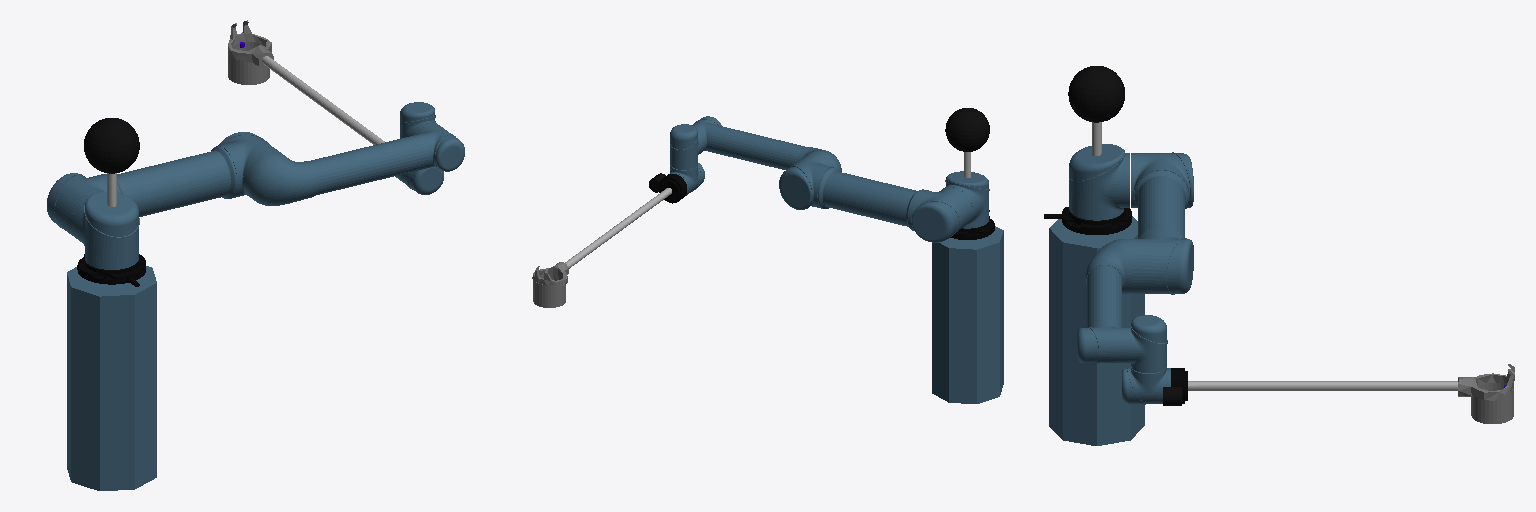
The robot description file, URDF, robot "ur5":
<?xml version="1.0" ?>
<!-- =================================================================================== -->
<!-- |    This document was autogenerated by xacro from UR5_gripper2.xacro             | -->
<!-- |    EDITING THIS FILE BY HAND IS NOT RECOMMENDED                                 | -->
<!-- =================================================================================== -->
<robot name="ur5">

  <!-- ===================================================================  -->
  <!--                       UR5 ROBOT DESCRIPTION                          -->
  <!-- ===================================================================  -->
  <link name="stand">
    <visual>
      <origin rpy="0 0 0" xyz="0. 0.0 0.0"/>
      <geometry>
        <mesh filename="package://ur5controller/arm/meshes/visual/arm_stand.obj"/>
      </geometry>
      <material name="blau">
        <color rgba="0.3 0.43 0.512 1.0"/>
      </material>
    </visual>
    <collision>
      <geometry>
        <mesh filename="package://ur5controller/arm/meshes/visual/arm_stand.obj"/>
      </geometry>
    </collision>
    <inertial>
      <mass value="4.0"/>
      <origin rpy="0 0 0" xyz="0.0 0.0 0.0"/>
      <inertia ixx="0.00443333156" ixy="0.0" ixz="0.0" iyy="0.00443333156" iyz="0.0" izz="0.0072"/>
    </inertial>
  </link>

  <joint name="stand_joints" type="fixed">
    <parent link="stand"/>
    <child link="base_link"/>
    <origin rpy="0.0 0.0 0.0" xyz="0.0 0.0 0.5"/>
    <axis xyz="0 0 1"/>
    <limit effort="2250.0" lower="-6.26573" upper="6.26573" velocity="3.15"/>
    <dynamics damping="0.1" friction="10.0"/>
  </joint>


  <link name="base_link">
    <visual>
      <geometry>
        <mesh filename="package://ur5controller/arm/meshes/visual/base.obj"/>
      </geometry>
      <material name="Scheibe">
        <color rgba="0.07 0.07 0.07 1.0"/>
      </material>
    </visual>
    <collision>
      <geometry>
        <mesh filename="package://ur5controller/arm/meshes/collision/base.stl"/>
      </geometry>
    </collision>
    <inertial>
      <mass value="4.0"/>
      <origin rpy="0 0 0" xyz="0.0 0.0 0.0"/>
      <inertia ixx="0.00443333156" ixy="0.0" ixz="0.0" iyy="0.00443333156" iyz="0.0" izz="0.0072"/>
    </inertial>
  </link>


  <joint name="shoulder_pan_joint" type="revolute">
    <parent link="base_link"/>
    <child link="shoulder_link"/>
    <origin rpy="0.0 0.0 0.0" xyz="0.0 0.0 0.089159"/>
    <axis xyz="0 0 1"/>
    <limit effort="2250.0" lower="-6.26573" upper="6.26573" velocity="3.15"/>
    <dynamics damping="0.1" friction="10.0"/>
  </joint>


  <link name="shoulder_link">
    <visual>
      <geometry>
        <mesh filename="package://ur5controller/arm/meshes/visual/shoulder.obj"/>
      </geometry>
      <material name="blau">
        <color rgba="0.3 0.43 0.512 1.0"/>
      </material>
    </visual>
    <collision>
      <geometry>
        <mesh filename="package://ur5controller/arm/meshes/collision/shoulder.stl"/>
      </geometry>
    </collision>
    <inertial>
      <mass value="3.7"/>
      <origin rpy="0 0 0" xyz="0.0 0.0 0.0"/>
      <inertia ixx="0.010267495893" ixy="0.0" ixz="0.0" iyy="0.010267495893" iyz="0.0" izz="0.00666"/>
    </inertial>
  </link>


  <joint name="shoulder_lift_joint" type="revolute">
    <parent link="shoulder_link"/>
    <child link="upper_arm_link"/>
    <origin rpy="0.0 1.570796325 0.0" xyz="0.0 0.13585 0.0"/>
    <axis xyz="0 1 0"/>
    <limit effort="2250.0" lower="-6.26573" upper="6.26573" velocity="3.15"/>
    <dynamics damping="0.1" friction="10.0"/>
  </joint>


  <link name="upper_arm_link">
    <visual>
      <geometry>
        <mesh filename="package://ur5controller/arm/meshes/visual/upperarm.obj"/>
      </geometry>
      <material name="blau">
        <color rgba="0.3 0.43 0.512 1.0"/>
      </material>
    </visual>
    <collision>
      <geometry>
        <mesh filename="package://ur5controller/arm/meshes/collision/upperarm.stl"/>
      </geometry>
    </collision>
    <inertial>
      <mass value="8.393"/>
      <origin rpy="0 0 0" xyz="0.0 0.0 0.28"/>
      <inertia ixx="0.22689067591" ixy="0.0" ixz="0.0" iyy="0.22689067591" iyz="0.0" izz="0.0151074"/>
    </inertial>
  </link>


  <joint name="elbow_joint" type="revolute">
    <parent link="upper_arm_link"/>
    <child link="forearm_link"/>
    <origin rpy="0.0 0.0 0.0" xyz="0.0 -0.1197 0.425"/>
    <axis xyz="0 1 0"/>
    <!-- FIXME these efforts are multiplie by 20 for fast training. Should just switch to fast robot -->
    <limit effort="2250.0" lower="-6.26573" upper="6.26573" velocity="3.15"/>
    <dynamics damping="0.1" friction="10.0"/>
  </joint>


  <link name="forearm_link">
    <visual>
      <geometry>
        <mesh filename="package://ur5controller/arm/meshes/visual/forearm.obj"/>
      </geometry>
      <material name="blau">
        <color rgba="0.3 0.43 0.512 1.0"/>
      </material>
    </visual>
    <collision>
      <geometry>
        <mesh filename="package://ur5controller/arm/meshes/collision/forearm.stl"/>
      </geometry>
    </collision>
    <inertial>
      <mass value="2.275"/>
      <origin rpy="0 0 0" xyz="0.0 0.0 0.25"/>
      <inertia ixx="0.049443313556" ixy="0.0" ixz="0.0" iyy="0.049443313556" iyz="0.0" izz="0.004095"/>
    </inertial>
  </link>


  <joint name="wrist_1_joint" type="revolute">
    <parent link="forearm_link"/>
    <child link="wrist_1_link"/>
    <origin rpy="0.0 1.570796325 0.0" xyz="0.0 0.0 0.39225"/>
    <axis xyz="0 1 0"/>
    <limit effort="420.0" lower="-6.26573" upper="6.26573" velocity="3.2"/>
    <dynamics damping="0.1" friction="10.0"/>
  </joint>


  <link name="wrist_1_link">
    <visual>
      <geometry>
        <mesh filename="package://ur5controller/arm/meshes/visual/wrist1.obj"/>
      </geometry>
      <material name="blau">
        <color rgba="0.3 0.43 0.512 1.0"/>
      </material>
    </visual>
    <collision>
      <geometry>
        <mesh filename="package://ur5controller/arm/meshes/collision/wrist1.stl"/>
      </geometry>
    </collision>
    <inertial>
      <mass value="1.219"/>
      <origin rpy="0 0 0" xyz="0.0 0.0 0.0"/>
      <inertia ixx="0.111172755531" ixy="0.0" ixz="0.0" iyy="0.111172755531" iyz="0.0" izz="0.21942"/>
    </inertial>
  </link>


  <joint name="wrist_2_joint" type="revolute">
    <parent link="wrist_1_link"/>
    <child link="wrist_2_link"/>
    <origin rpy="0.0 0.0 0.0" xyz="0.0 0.093 0.0"/>
    <axis xyz="0 0 1"/>
    <limit effort="420.0" lower="-6.26573" upper="6.26573" velocity="3.2"/>
    <dynamics damping="0.1" friction="10.0"/>
  </joint>


  <link name="wrist_2_link">
    <visual>
      <geometry>
        <mesh filename="package://ur5controller/arm/meshes/visual/wrist2.obj"/>
      </geometry>
      <material name="blau">
        <color rgba="0.3 0.43 0.512 1.0"/>
      </material>
    </visual>
    <collision>
      <geometry>
        <mesh filename="package://ur5controller/arm/meshes/collision/wrist2.stl"/>
      </geometry>
    </collision>
    <inertial>
      <mass value="1.219"/>
      <origin rpy="0 0 0" xyz="0.0 0.0 0.0"/>
      <inertia ixx="0.111172755531" ixy="0.0" ixz="0.0" iyy="0.111172755531" iyz="0.0" izz="0.21942"/>
    </inertial>
  </link>


  <joint name="wrist_3_joint" type="revolute">
    <parent link="wrist_2_link"/>
    <child link="wrist_3_link"/>
    <origin rpy="0.0 0.0 0.0" xyz="0.0 0.0 0.09465"/>
    <axis xyz="0 1 0"/>
    <limit effort="420.0" lower="-6.26573" upper="6.26573" velocity="3.2"/>
    <dynamics damping="0.1" friction="10.0"/>
  </joint>


  <link name="wrist_3_link">
    <visual>
      <geometry>
        <mesh filename="package://ur5controller/arm/meshes/visual/wrist3.obj"/>
      </geometry>
      <material name="Scheibe">
        <color rgba="0.07 0.07 0.07 1.0"/>
      </material>
    </visual>
    <collision>
      <geometry>
        <mesh filename="package://ur5controller/arm/meshes/collision/wrist3.stl"/>
      </geometry>
    </collision>
    <inertial>
      <mass value="0.1879"/>
      <origin rpy="0 0 0" xyz="0.0 0.0 0.0"/>
      <inertia ixx="0.0171364731454" ixy="0.0" ixz="0.0" iyy="0.0171364731454" iyz="0.0" izz="0.033822"/>
    </inertial>
  </link>


  <joint name="ee_fixed_joint" type="fixed">
    <parent link="wrist_3_link"/>
    <child link="ee_link0"/>
    <origin rpy="0.0 0.0 1.570796325" xyz="0.0 0.08 0.0"/>
  </joint>


  <link name="ee_link0">
    <inertial>
      <mass value="0.018"/>
      <inertia ixx="8.82e-6" ixy="0" ixz="0" iyy="8.82e-6" iyz="0" izz="8.82e-6" />
    </inertial>
    <collision>
      <geometry>
        <box size="0.01 0.01 0.01"/>
      </geometry>
      <origin rpy="0 0 0" xyz="-0.01 0 0"/>
    </collision>
  </link>


  <transmission name="shoulder_pan_trans">
    <type>transmission_interface/SimpleTransmission</type>
    <joint name="shoulder_pan_joint">
      <hardwareInterface>PositionJointInterface</hardwareInterface>
    </joint>
    <actuator name="shoulder_pan_motor">
      <mechanicalReduction>1</mechanicalReduction>
    </actuator>
  </transmission>


  <transmission name="shoulder_lift_trans">
    <type>transmission_interface/SimpleTransmission</type>
    <joint name="shoulder_lift_joint">
      <hardwareInterface>PositionJointInterface</hardwareInterface>
    </joint>
    <actuator name="shoulder_lift_motor">
      <mechanicalReduction>1</mechanicalReduction>
    </actuator>
  </transmission>


  <transmission name="elbow_trans">
    <type>transmission_interface/SimpleTransmission</type>
    <joint name="elbow_joint">
      <hardwareInterface>PositionJointInterface</hardwareInterface>
    </joint>
    <actuator name="elbow_motor">
      <mechanicalReduction>1</mechanicalReduction>
    </actuator>
  </transmission>


  <transmission name="wrist_1_trans">
    <type>transmission_interface/SimpleTransmission</type>
    <joint name="wrist_1_joint">
      <hardwareInterface>PositionJointInterface</hardwareInterface>
    </joint>
    <actuator name="wrist_1_motor">
      <mechanicalReduction>1</mechanicalReduction>
    </actuator>
  </transmission>


  <transmission name="wrist_2_trans">
    <type>transmission_interface/SimpleTransmission</type>
    <joint name="wrist_2_joint">
      <hardwareInterface>PositionJointInterface</hardwareInterface>
    </joint>
    <actuator name="wrist_2_motor">
      <mechanicalReduction>1</mechanicalReduction>
    </actuator>
  </transmission>


  <transmission name="wrist_3_trans">
    <type>transmission_interface/SimpleTransmission</type>
    <joint name="wrist_3_joint">
      <hardwareInterface>PositionJointInterface</hardwareInterface>
    </joint>
    <actuator name="wrist_3_motor">
      <mechanicalReduction>1</mechanicalReduction>
    </actuator>
  </transmission>

  <!-- nothing to do here at the moment -->
  <!-- ROS base_link to UR 'Base' Coordinates transform -->
  <link name="base"/>
  <joint name="base_link-base_fixed_joint" type="fixed">
    <!-- NOTE: this rotation is only needed as long as base_link itself is
                 not corrected wrt the real robot (ie: rotated over 180
                 degrees)
      -->
    <origin rpy="0 0 -3.14159265" xyz="0 0 0"/>
    <parent link="base_link"/>
    <child link="base"/>
  </joint>

  <!-- Frame coincident with all-zeros TCP on UR controller -->
  <link name="tool0"/>
  <joint name="wrist_3_link-tool0_fixed_joint" type="fixed">
    <origin rpy="-1.570796325 0 0" xyz="0 0.0823 0"/>
    <parent link="wrist_3_link"/>
    <child link="tool0"/>
  </joint>


  <!-- ===================================================================  -->
  <!--                     CUSTOM PICKER                                    -->
  <!-- ===================================================================  -->

  <joint name="Gripper_Adapter_Fix" type="fixed">
    <parent link="ee_link0"/>
    <child link="simple_picker_pole"/>
    <origin rpy="0.0 0 0.0" xyz="0.0 0.0 0.0"/>
  </joint>


  <link name="simple_picker_pole">
    <visual>
      <origin rpy="0 1.571 0" xyz="0.3 0.0 0.0"/>
      <geometry name="pole">
        <cylinder length="0.6" radius="0.01"/>
      </geometry>
      <material name="LightGrey">
        <color rgba="0.7 0.7 0.7 1.0"/>
      </material>
    </visual>
    <collision>
      <origin rpy="0 1.571 0" xyz="0.3 0.0 0.0"/>
      <geometry name="pole">
        <cylinder length="0.6" radius="0.01"/>
      </geometry>
    </collision>
    <inertial>
      <mass value="0.1879"/>
      <inertia ixx="0.0171364731454" ixy="0.0" ixz="0.0" iyy="0.0171364731454" iyz="0.0" izz="0.033822"/>
    </inertial>
  </link>

  <joint name="joint_simple_picker_pole" type="fixed">
    <parent link="simple_picker_pole"/>
    <child link="simple_picker_tool"/>
    <origin rpy="0 3.1416 0" xyz="0.6 0.0 0.0"/>
  </joint>

  <link name="simple_picker_tool">
    <visual>
      <geometry>
        <mesh filename="package://picker/picker2.dae" scale=".33 .33 .33"/>
      </geometry>
      <material name="Grey">
        <color rgba="0.5 0.5 0.5 1.0"/>
      </material>
    </visual>
    <collision concave="yes">
      <!-- <origin rpy="0 0 0" xyz="0 0 0.015"/> -->
      <geometry>      
        <!-- <mesh filename="package://picker/picker_collision.dae" scale=".25 .25 .25"/> -->
        <mesh filename="package://picker/picker2.dae" scale=".33 .33 .33"/>
      </geometry>
    </collision>
    <inertial>
      <mass value="0.1879"/>
      <!-- <origin rpy="0 0 0" xyz="0.0 0.0 0.0"/> -->
      <inertia ixx="0.0171364731454" ixy="0.0" ixz="0.0" iyy="0.0171364731454" iyz="0.0" izz="0.033822"/>
    </inertial>
  </link>

  <joint name="ee_joint" type="fixed">
    <parent link="simple_picker_tool"/>
    <child link="ee_link"/>
    <origin rpy="0.0 0 0" xyz="-0.07 0 0"/>
  </joint>
  <link name="ee_link">
    <!-- This is in the center of the hoop -->
      <inertial>
          <mass value="0.018"/>
          <inertia ixx="8.82e-6" ixy="0" ixz="0" iyy="8.82e-6" iyz="0" izz="8.82e-6" />
      </inertial>
      <!-- DEBUG VISUAL -->
      <visual>
        <origin rpy="0 0 0" xyz="0.0 0.0 -0.005"/>
        <geometry>
          <cylinder length="0.01" radius="0.005"/>
        </geometry>
        <material name="blue">
          <color rgba="0.3 0.0 0.9 1.0"/>
        </material>
      </visual>
  </link>

<joint name="arm_camera_joint" type="fixed">
    <parent link="ee_link0"/>
    <child link="arm_camera_link"/>
    <!-- attach camera here, points at picker -->
    <origin rpy="0 -1.57 0" xyz="-0.02 0.05 0"/>
  </joint>
  <link name="arm_camera_link">
    <!-- This visual of camera -->
      <inertial>
          <mass value="0.018"/>
          <inertia ixx="8.82e-6" ixy="0" ixz="0" iyy="8.82e-6" iyz="0" izz="8.82e-6" />
      </inertial>
      <!-- DEBUG VISUAL -->
      <visual>
        <origin rpy="0 0 0" xyz="0.00 0.0 0.01"/>
        <geometry>
          <cylinder length="0.04" radius="0.02"/>
        </geometry>
        <material name="black">
          <color rgba="0.1 0.1 0.1 1.0"/>
        </material>
      </visual>
  </link>




  <joint name="base_camera_stalk_joint" type="fixed">
    <parent link="base_link"/>
    <!-- or base of stand ? -->
    <child link="base_camera_stalk"/>
    <!-- attach camera here, points at picker -->
    <origin rpy="0 3.14 0" xyz="0.00 0.00 0.2"/>
  </joint>
  <link name="base_camera_stalk">
    <!-- This visual of camera -->
      <inertial>
          <mass value="0.018"/>
          <inertia ixx="8.82e-6" ixy="0" ixz="0" iyy="8.82e-6" iyz="0" izz="8.82e-6" />
      </inertial>
      <!-- DEBUG VISUAL -->
      <visual>
        <origin rpy="0 0 0" xyz="0.00 0.0 0.01"/>
        <geometry>
          <cylinder radius="0.01" length="0.15"/>
        </geometry>
        <material name="LightGrey">
          <color rgba="0.7 0.7 0.7 1.0"/>
        </material>
      </visual>
  </link>

  <joint name="base_camera_joint" type="fixed">
    <parent link="base_camera_stalk"/>
    <!-- or base of stand ? -->
    <child link="base_camera_link"/>
    <!-- attach camera here, points at picker -->
    <origin rpy="0 0 0" xyz="0.00 0.00 -0.10"/>
  </joint>
  <link name="base_camera_link">
    <!-- This visual of camera -->
      <inertial>
          <mass value="0.018"/>
          <inertia ixx="8.82e-6" ixy="0" ixz="0" iyy="8.82e-6" iyz="0" izz="8.82e-6" />
      </inertial>
      <!-- DEBUG VISUAL -->
      <visual>
        <origin rpy="0 0 0" xyz="0.00 0.0 0.01"/>
        <geometry>
          <sphere radius="0.06"/>
        </geometry>
        <material name="black">
          <color rgba="0.1 0.1 0.1 1.0"/>
        </material>
      </visual>
  </link>
</robot>

--- What the picture shows (computed from the rendered views, not written in the file) ---
Views: 3 orthographic renders of the robot side by side, from view 1: azimuth 30°, elevation 25°; view 2: azimuth 150°, elevation 25°; view 3: azimuth 270°, elevation 25°.
Robot: ur5 — 17 links, 16 joints (6 revolute, 10 fixed); root link stand; default pose: every joint at zero.
Links seen in each view (by area): view 1: stand, upper_arm_link, forearm_link, shoulder_link, base_camera_link, simple_picker_tool, simple_picker_pole, base_link, wrist_1_link, wrist_2_link; view 2: stand, upper_arm_link, forearm_link, base_camera_link, simple_picker_tool, shoulder_link, wrist_1_link, simple_picker_pole, wrist_3_link; view 3: stand, upper_arm_link, forearm_link, shoulder_link, simple_picker_pole, base_camera_link, simple_picker_tool, wrist_1_link, wrist_2_link, base_link.
Link boxes in pixels (x1,y1,x2,y2): stand: (67,266,156,490); upper_arm_link: (47,132,280,238); forearm_link: (244,123,464,205); shoulder_link: (72,192,139,269); base_camera_link: (84,118,139,173); simple_picker_tool: (228,20,273,84); simple_picker_pole: (262,56,384,144); base_link: (77,254,145,286); wrist_1_link: (400,102,436,138); wrist_2_link: (395,167,443,194); stand: (932,226,1003,403); upper_arm_link: (779,154,972,242); forearm_link: (692,116,841,171); base_camera_link: (945,108,989,151); simple_picker_tool: (532,262,568,307); shoulder_link: (943,171,989,228); wrist_1_link: (670,124,704,169); simple_picker_pole: (565,188,671,268); wrist_3_link: (658,174,686,203); stand: (1049,216,1144,445); upper_arm_link: (1131,152,1193,294); forearm_link: (1077,239,1130,363); shoulder_link: (1069,144,1129,220); simple_picker_pole: (1188,381,1457,390); base_camera_link: (1068,66,1124,122); simple_picker_tool: (1458,364,1514,423); wrist_1_link: (1127,315,1167,372); wrist_2_link: (1122,367,1170,404); base_link: (1044,207,1131,234).
Size in the robot's own frame: 0.9873 by 0.9889 by 0.8295 metres.
9 mesh visuals loaded from 9 distinct referenced files (1 Collada DAE, 8 OBJ).